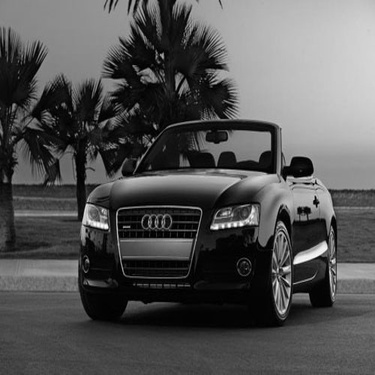car: (69, 112, 342, 321)
